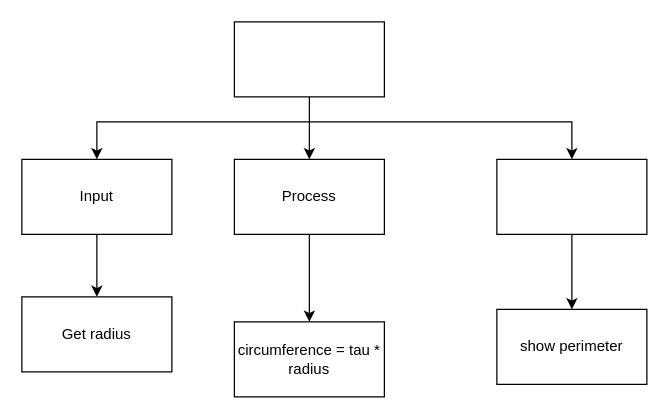
The diagram is 669 pixels wide and 419 high, and some of its shapes have lost their labels. The centre of each missing label's shape, as x and y in pixels:
Area and perimeter of rectangle: pixel 308 59
Output: pixel 571 196
